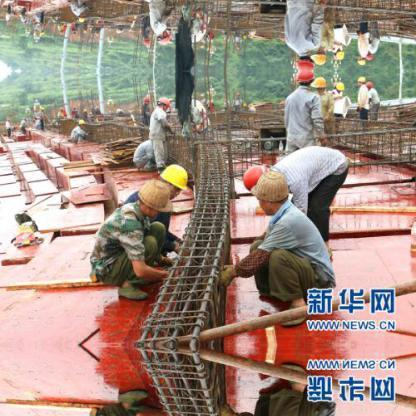helmet: (251, 171, 293, 202), (136, 175, 171, 211), (155, 161, 191, 195), (242, 163, 270, 196), (294, 68, 315, 87), (310, 75, 328, 92), (158, 94, 175, 111), (333, 78, 347, 94), (357, 74, 367, 86), (365, 80, 375, 90)
